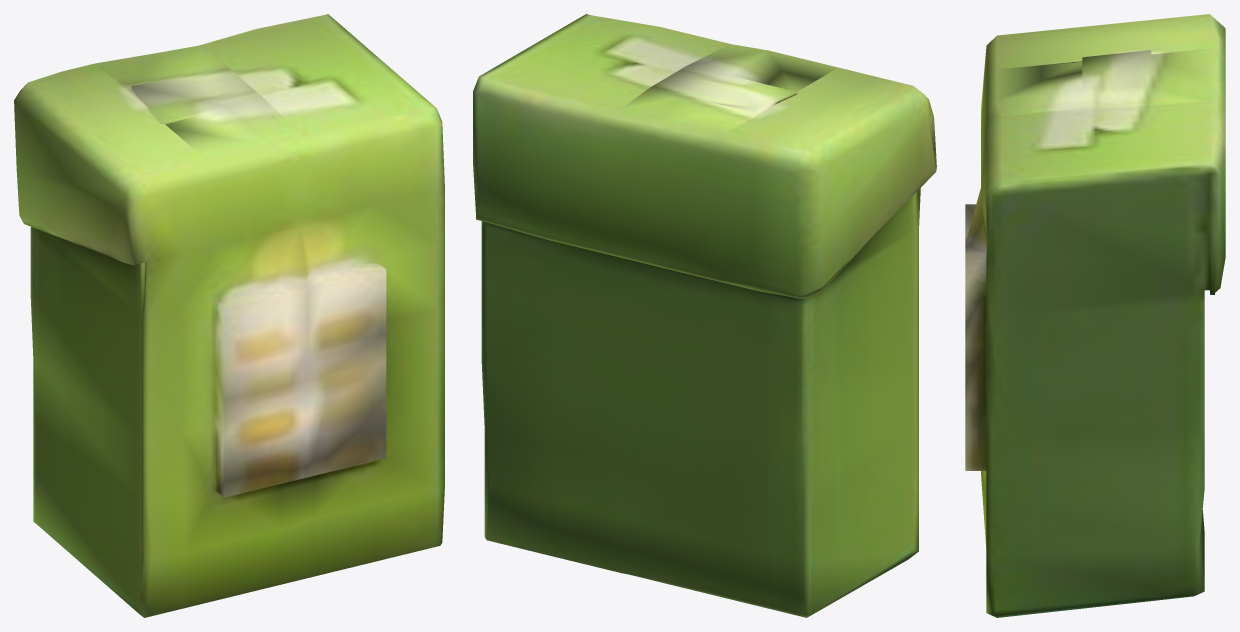
File: yeast.glb
The picture shows the model from 3 angles, left to right: view 1: azimuth 30°, elevation 25°; view 2: azimuth 150°, elevation 25°; view 3: azimuth 270°, elevation 25°; orthographic projection. The views are drawn at different scales.
Visible parts, largest first — view 1: Yeast; view 2: Yeast; view 3: Yeast.
Boxes of the visible parts, bbox=[...] form: Yeast: bbox=[14, 14, 444, 617]; Yeast: bbox=[473, 14, 936, 617]; Yeast: bbox=[965, 14, 1225, 617].
Bounding box in the file's own units: 1.07 × 1.47 × 0.7565.
1 material, 1 textured.
